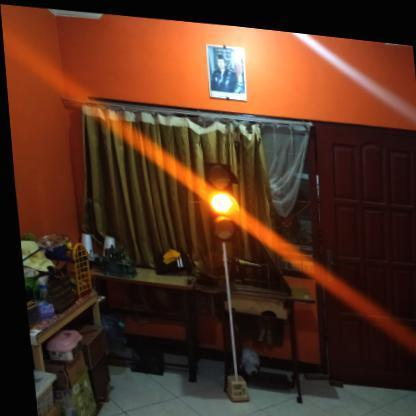yellow: (200, 156, 240, 238)
